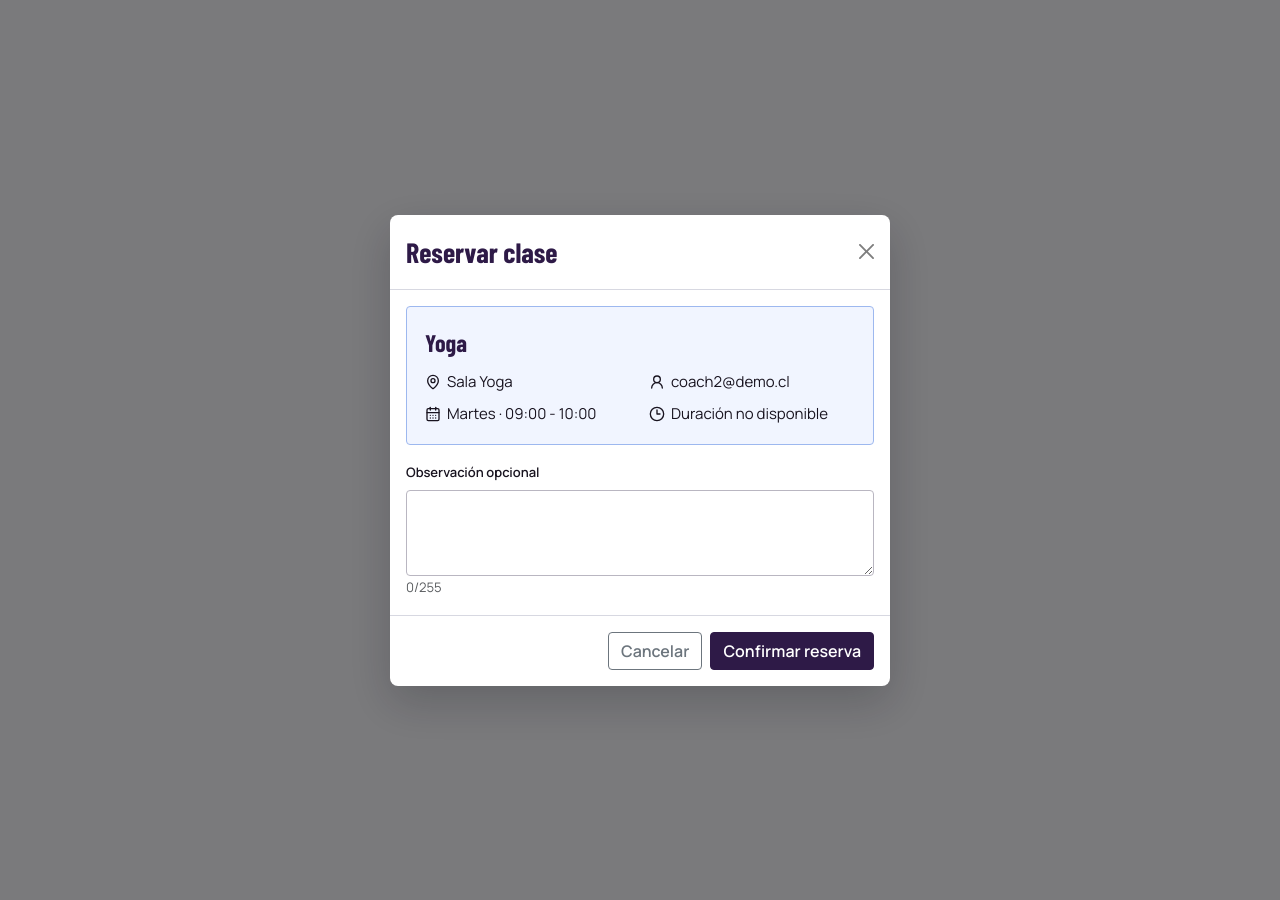
Test case: ReservationModal › keeps duplicate reservation errors visible
The width and height of the screenshot is (1280, 900).
Click the button "Confirmar reserva".
click(792, 650)  # box [710,632,874,670]
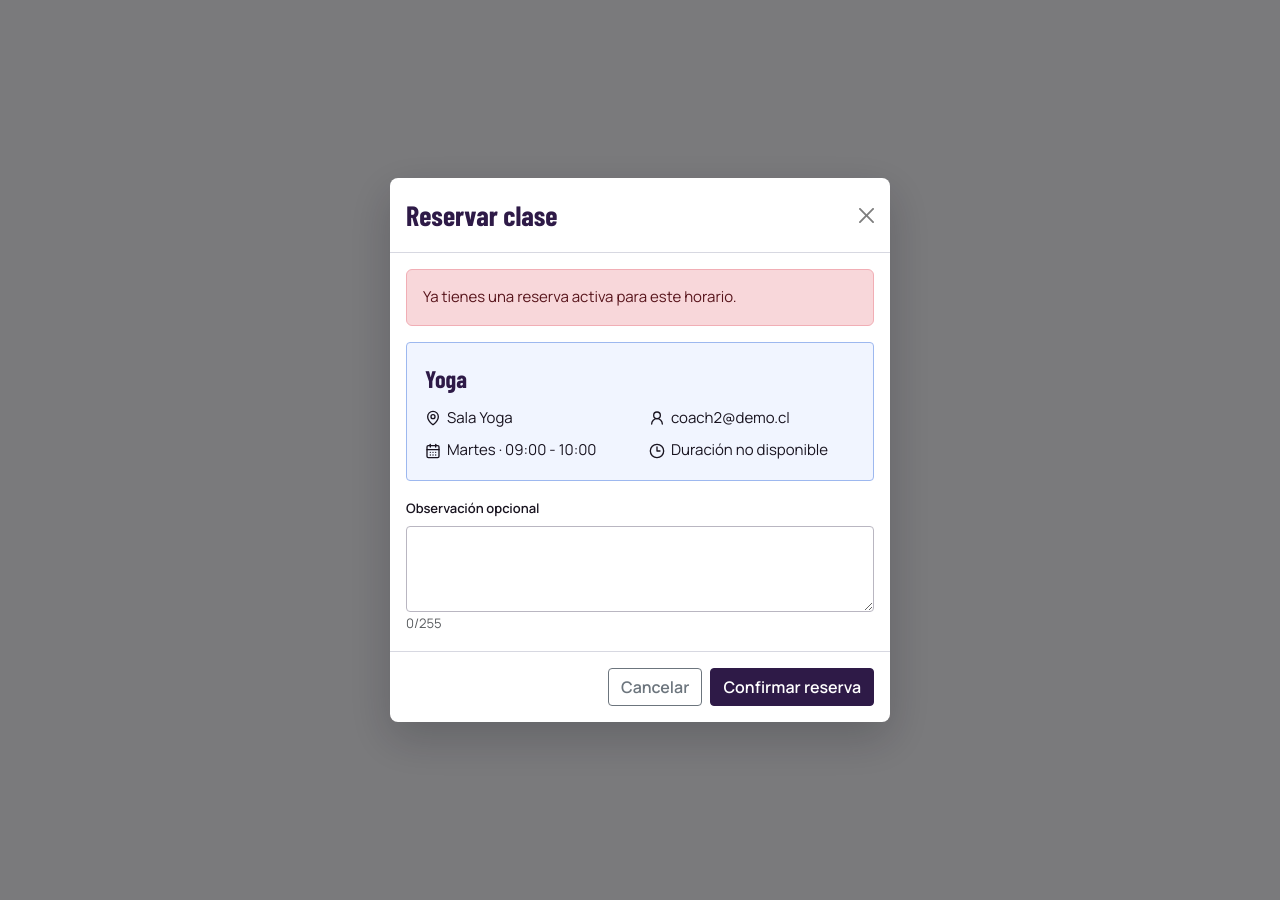
Expected: the dialog is shown, [390,178,890,722]
Expected: the message reads "Ya tienes una reserva activa para este horario.", [423,286,737,307]
